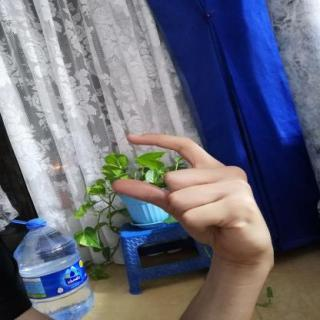DELL: (104, 126, 278, 270)
